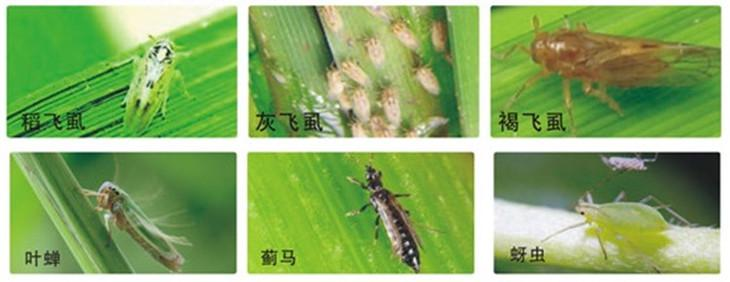pest: (529, 28, 722, 88), (95, 181, 189, 270), (362, 167, 428, 272), (117, 38, 175, 135), (571, 200, 671, 232), (406, 114, 455, 138), (388, 22, 421, 52), (341, 58, 371, 87), (413, 64, 441, 94), (362, 38, 388, 70), (382, 84, 401, 127), (348, 87, 371, 119), (431, 19, 449, 54), (321, 6, 344, 30), (363, 4, 394, 21), (328, 66, 343, 101), (374, 117, 396, 138), (348, 124, 372, 138)
